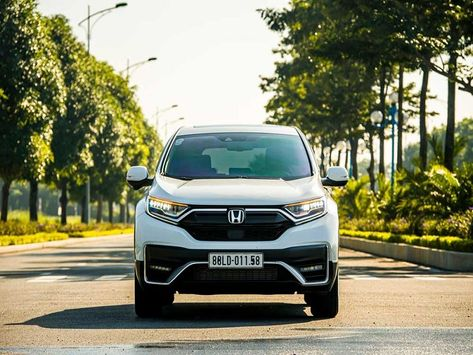number-plate: (209, 253, 263, 267)
